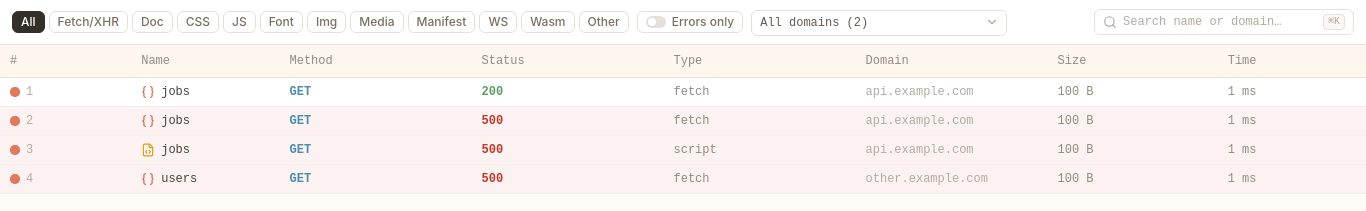
Test: recorded domain filter › combines domain, category, error, and search filters without hiding domain options
Select "api.example.com" in the dropdown: (879,23) [751,10,1007,36]
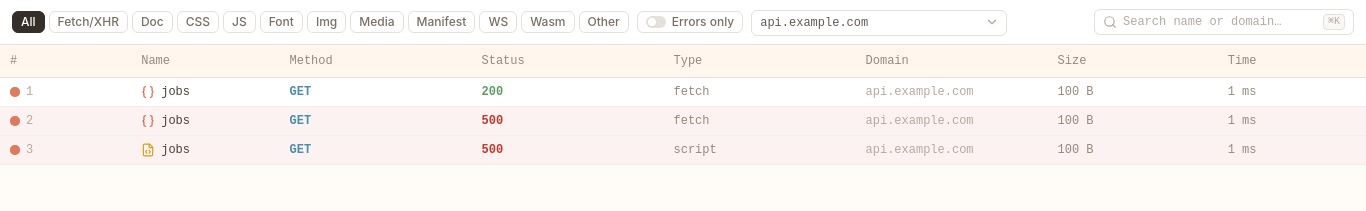
Click the button "Fetch/XHR": (88,22) [49,11,128,33]
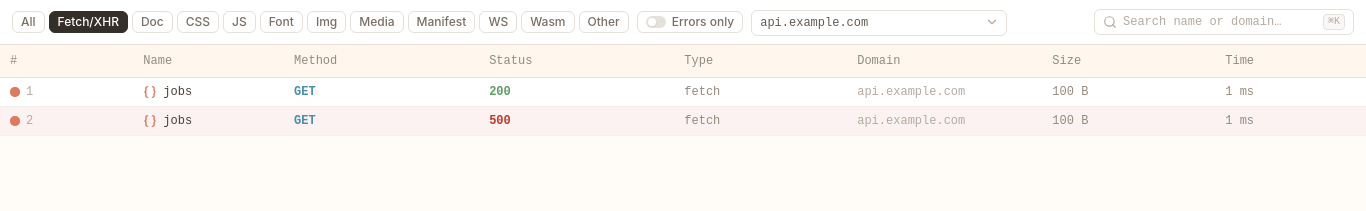
Click the switch labelled "Errors only": (690,22) [637,11,743,33]
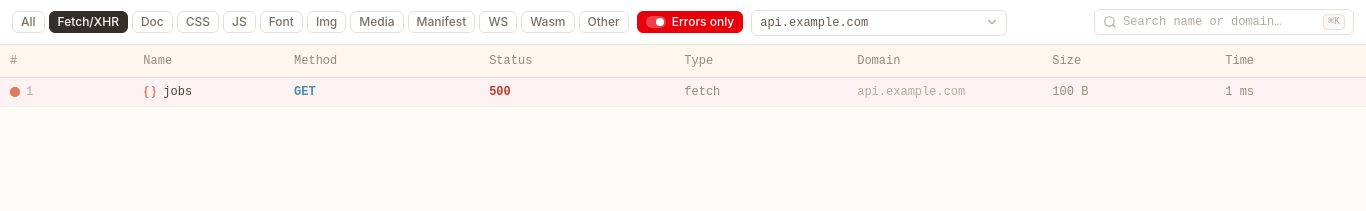
In the field: (1220,22) [1123,14,1317,30], type "jobs"
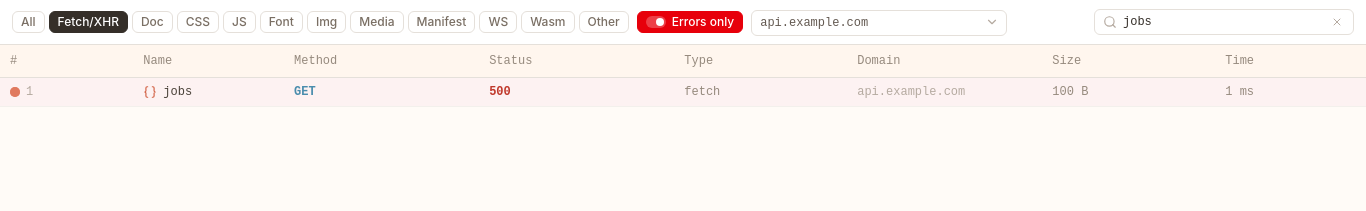
Expected: the row "1 jobs GET 500 fetch api.example.com 100 B 1 ms" is shown, [0,78,1365,106]
Replace the text in the field with "unmatched-request": (1223,22) [1123,14,1323,30]
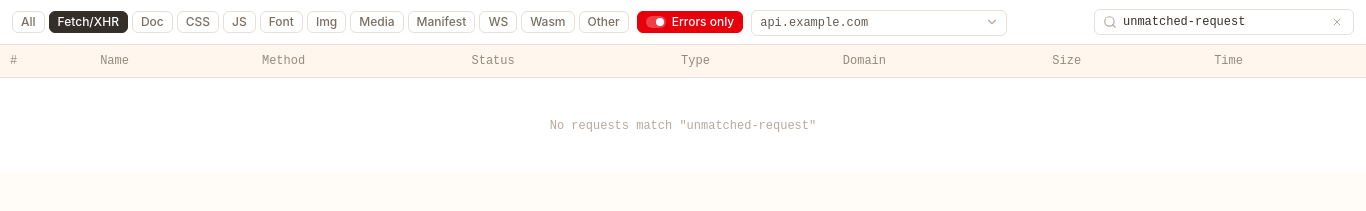
Result: the text "No requests match \"unmatched-request\"" is shown at [0,78,1365,174]
